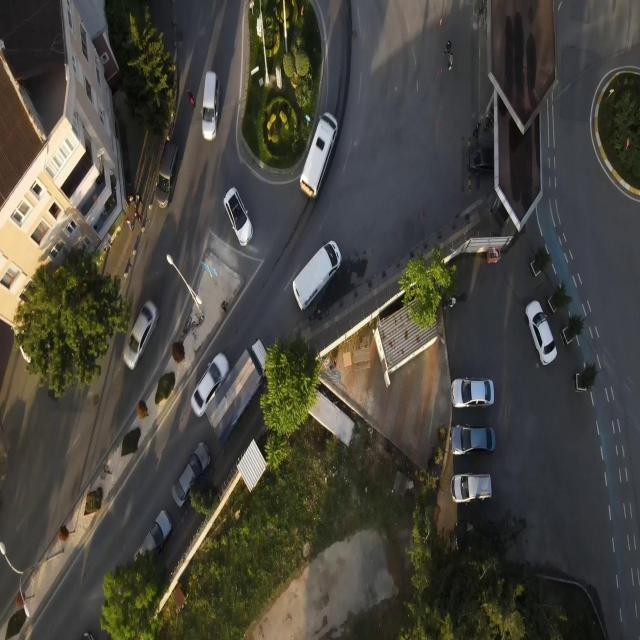p3rson: (187, 89, 196, 108), (442, 40, 452, 55), (483, 118, 492, 133), (127, 194, 136, 208), (472, 123, 480, 138), (125, 217, 134, 230), (447, 52, 453, 71), (136, 192, 143, 208), (134, 211, 142, 223)
